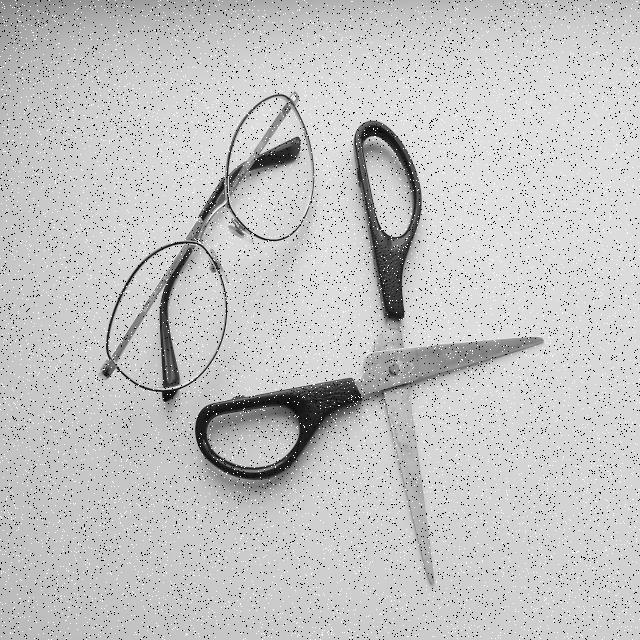scissors: (165, 62, 596, 637)
